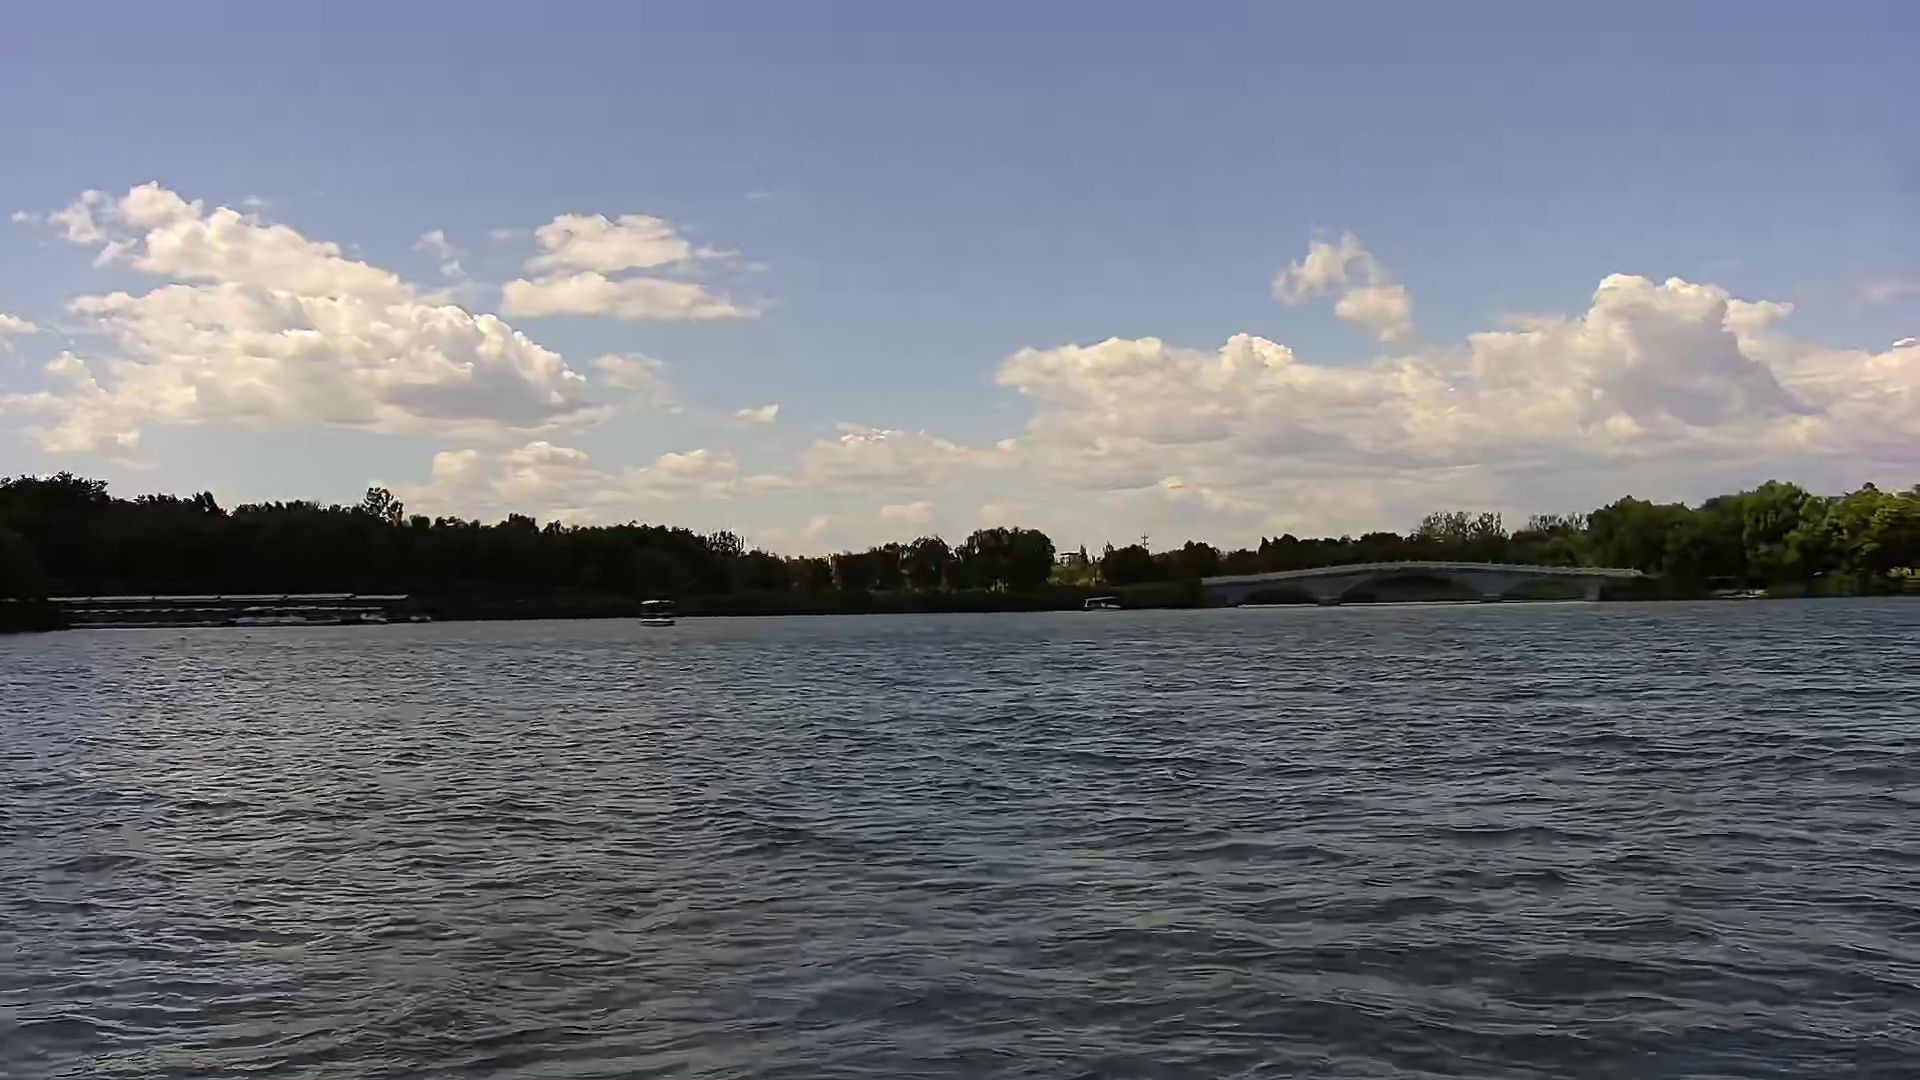boat: (640, 593, 680, 632)
bridge: (1200, 556, 1644, 613)
harbor: (44, 588, 430, 630)
